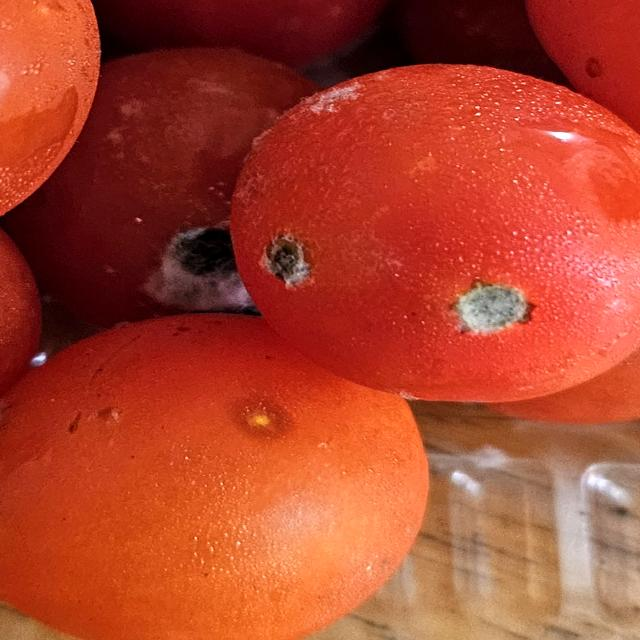rot_lvl1: (232, 393, 297, 444)
rot_lvl2: (142, 223, 248, 307), (451, 277, 535, 340), (262, 232, 317, 289)
